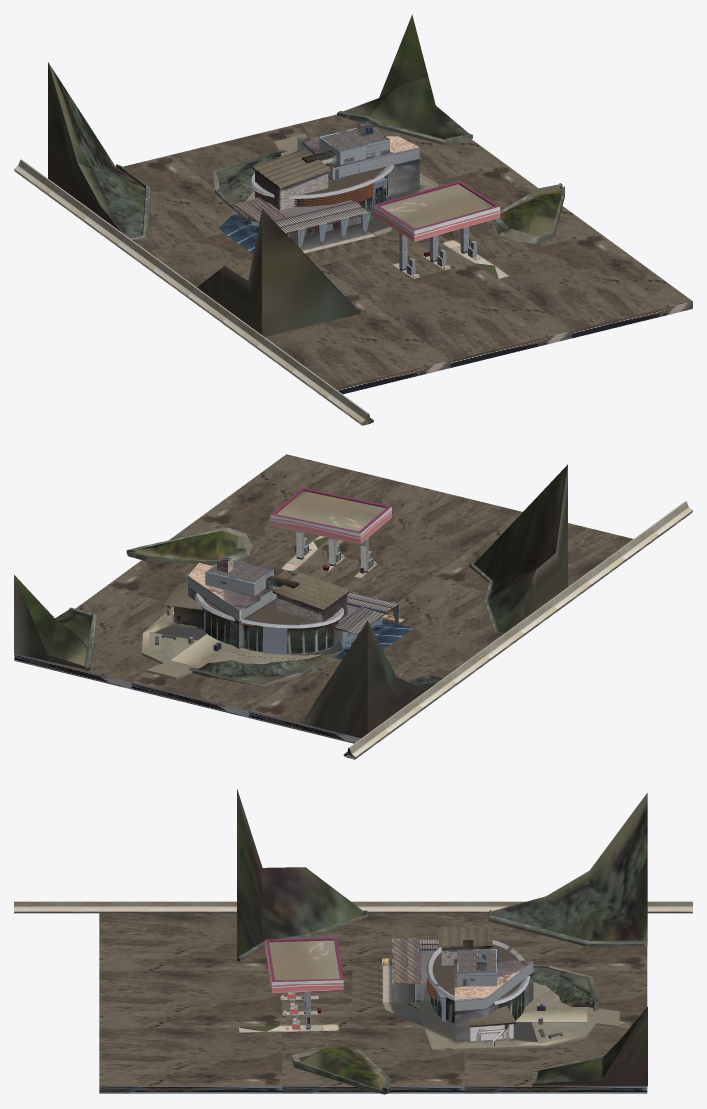
The model's file is skingrafting_compressed.glb.
The picture shows the model from 3 angles, top to bottom: view 1: azimuth 30°, elevation 25°; view 2: azimuth 150°, elevation 25°; view 3: azimuth 270°, elevation 25°; orthographic projection. The views are drawn at different scales.
Parts seen in each view (by area): view 1: Cube.024, Cube.030, Cube.027, Cube.037, Cube.016, Cube.013, Cube.005, Cylinder.001, Cube.032, Cube.002, Cube, Cube.003 (+6 smaller); view 2: Cube.024, Cube.030, Cube.027, Cube.037, Cylinder.001, Cube.029, Cube.013, Cube.005, Cube.023, Cube.010, Cube.002, Cube.003 (+6 smaller); view 3: Cube.024, Cube.030, Cube.027, Cube.037, Cube.029, Cube.023, Cylinder.001, Cube.013, Cube.016, Cube.032, Cube.010, Cube.005 (+4 smaller).
Part boxes in pixels (x1,y1,x2,y2): Cube.024: [123, 114, 692, 394]; Cube.030: [48, 14, 564, 336]; Cube.027: [373, 180, 510, 278]; Cube.037: [14, 159, 373, 425]; Cube.016: [292, 224, 392, 266]; Cube.013: [297, 136, 419, 179]; Cube.005: [252, 148, 330, 188]; Cylinder.001: [249, 152, 394, 210]; Cube.032: [274, 201, 368, 233]; Cube.002: [255, 171, 328, 210]; Cube: [297, 149, 419, 196]; Cube.003: [319, 128, 389, 164]; Cube.024: [14, 454, 633, 743]; Cube.030: [14, 464, 567, 738]; Cube.027: [270, 487, 391, 578]; Cube.037: [343, 501, 692, 759]; Cylinder.001: [195, 592, 343, 653]; Cube.029: [142, 606, 303, 679]; Cube.013: [188, 563, 276, 621]; Cube.005: [274, 572, 350, 610]; Cube.023: [149, 609, 343, 659]; Cube.010: [163, 585, 202, 629]; Cube.002: [276, 594, 347, 632]; Cube.003: [205, 559, 273, 596]; Cube.024: [99, 913, 647, 1093]; Cube.030: [237, 789, 647, 1094]; Cube.027: [239, 937, 343, 1033]; Cube.037: [14, 901, 692, 913]; Cube.029: [445, 981, 619, 1050]; Cube.023: [382, 990, 541, 1049]; Cylinder.001: [426, 940, 530, 1025]; Cube.013: [454, 958, 533, 1010]; Cube.016: [352, 965, 415, 1004]; Cube.032: [392, 937, 420, 983]; Cube.010: [468, 1005, 516, 1046]; Cube.005: [438, 926, 492, 947].
Size of what is drawn, in the model's own units: 105 by 34.86 by 161.
Materials: 35 (35 with a texture image).
